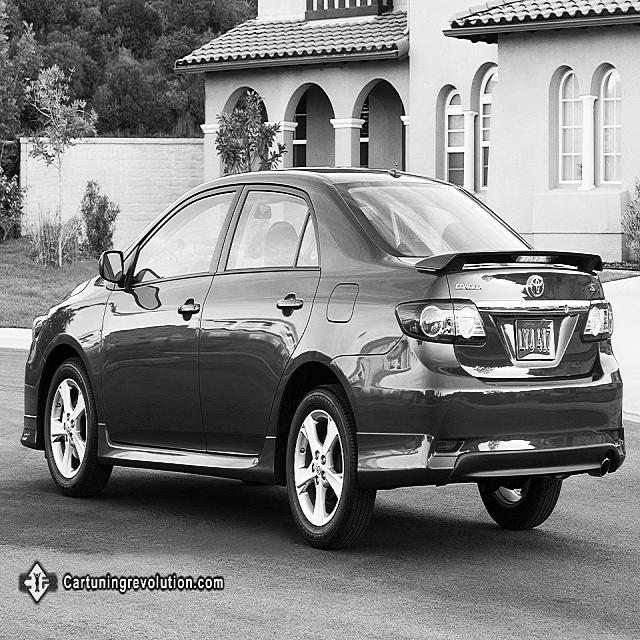car: (20, 165, 626, 550)
plat_license: (509, 308, 564, 369)
